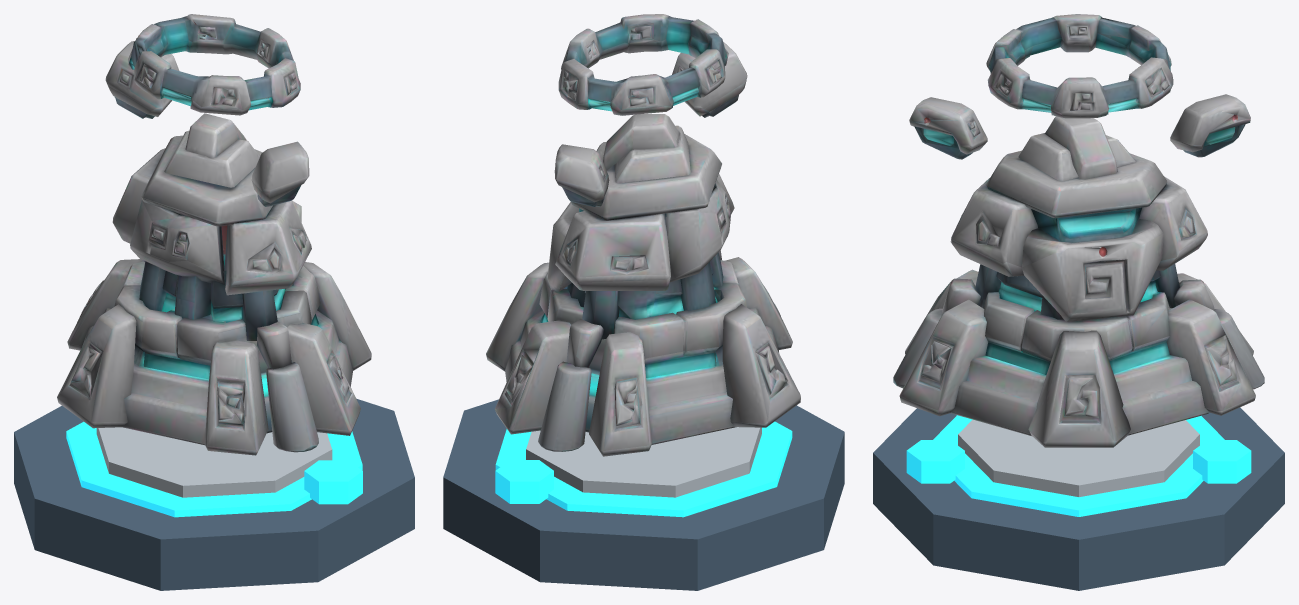
The model's file is struct_mecha_outpost.glb.
3 renders of one model, left to right at view 1: azimuth 30°, elevation 25°; view 2: azimuth 150°, elevation 25°; view 3: azimuth 270°, elevation 25°, orthographic.
Visible parts, largest first — view 1: tripo_node_f9c10e92-1aa4-4dd0-9f04-18aecdef98cf, Outpost silhouette details; view 2: tripo_node_f9c10e92-1aa4-4dd0-9f04-18aecdef98cf, Outpost silhouette details; view 3: tripo_node_f9c10e92-1aa4-4dd0-9f04-18aecdef98cf, Outpost silhouette details.
Boxes of the visible parts, x1,y1,x2,y2 form: tripo_node_f9c10e92-1aa4-4dd0-9f04-18aecdef98cf: [57, 14, 371, 455]; Outpost silhouette details: [14, 398, 414, 590]; tripo_node_f9c10e92-1aa4-4dd0-9f04-18aecdef98cf: [486, 14, 800, 456]; Outpost silhouette details: [443, 399, 844, 590]; tripo_node_f9c10e92-1aa4-4dd0-9f04-18aecdef98cf: [893, 14, 1264, 447]; Outpost silhouette details: [873, 407, 1284, 590].
Bounding box in the file's own units: 0.92 × 1.13 × 0.92.
Materials: 4 (1 with a texture image).
